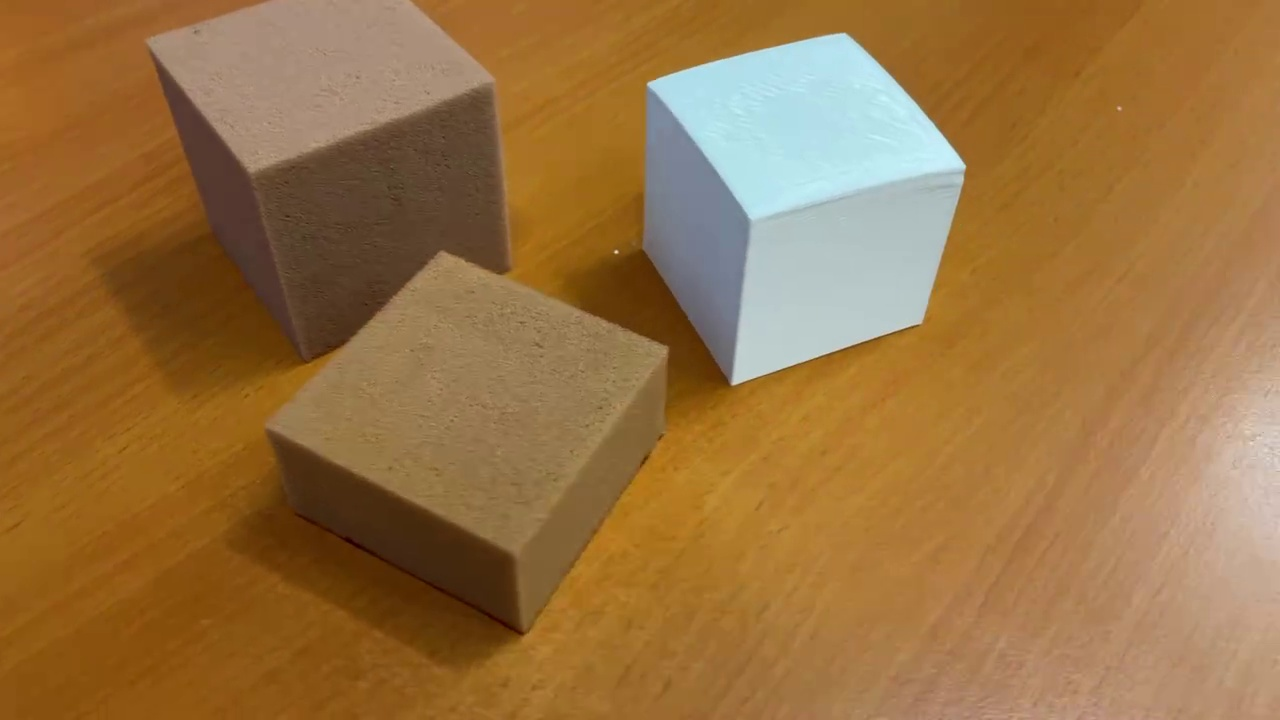Cube: (138, 1, 519, 369), (630, 26, 971, 391)
Cube_short: (258, 240, 673, 643)
